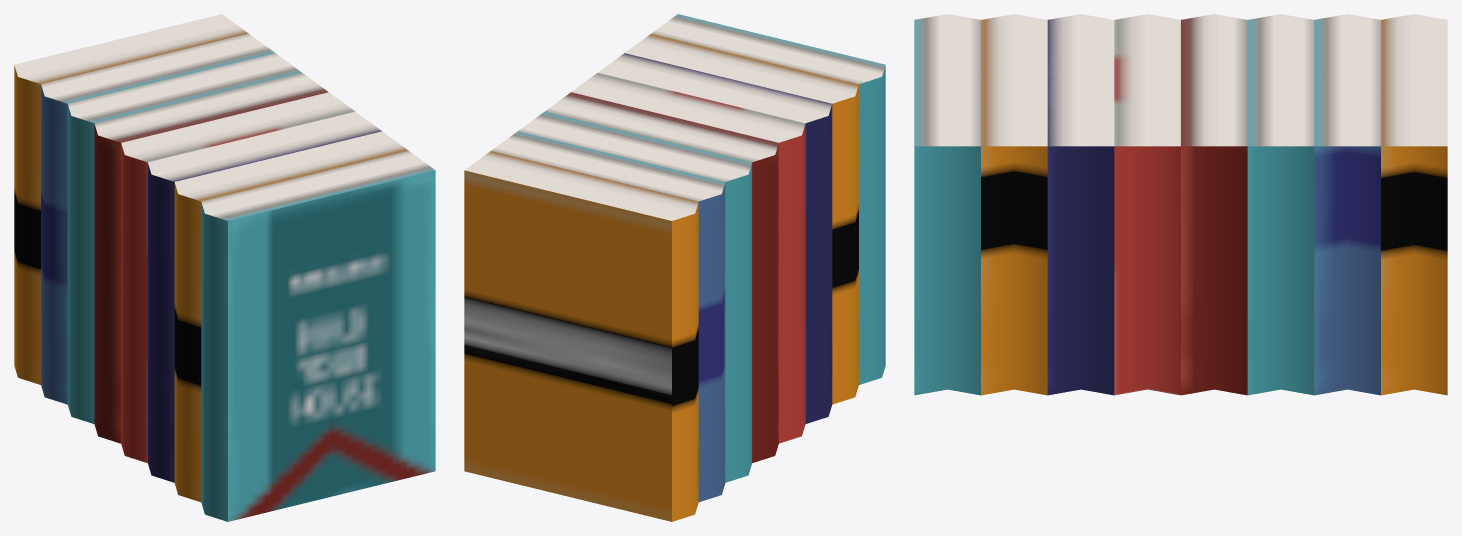
Rendered from TNP0110010.FBX.
The picture shows the model from 3 angles, left to right: view 1: azimuth 30°, elevation 25°; view 2: azimuth 150°, elevation 25°; view 3: azimuth 270°, elevation 25°; orthographic projection. The views are drawn at different scales.
Visible parts, largest first — view 1: smTNP0110010; view 2: smTNP0110010; view 3: smTNP0110010.
Boxes of the visible parts, x1,y1,x2,y2 form: smTNP0110010: [14, 14, 435, 521]; smTNP0110010: [464, 14, 885, 521]; smTNP0110010: [914, 14, 1447, 395].
Bounding box in the file's own units: 0.1976 × 0.2613 × 0.3363.
1 material, 1 textured.
